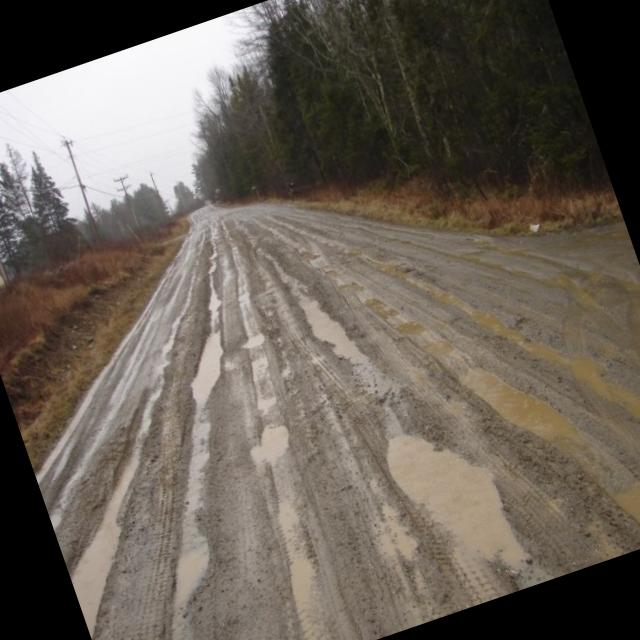Potholes: (268, 133, 601, 512), (373, 169, 640, 519), (22, 385, 248, 640), (238, 175, 414, 428), (375, 390, 555, 610), (120, 208, 277, 426), (94, 525, 267, 640), (585, 446, 640, 558)
